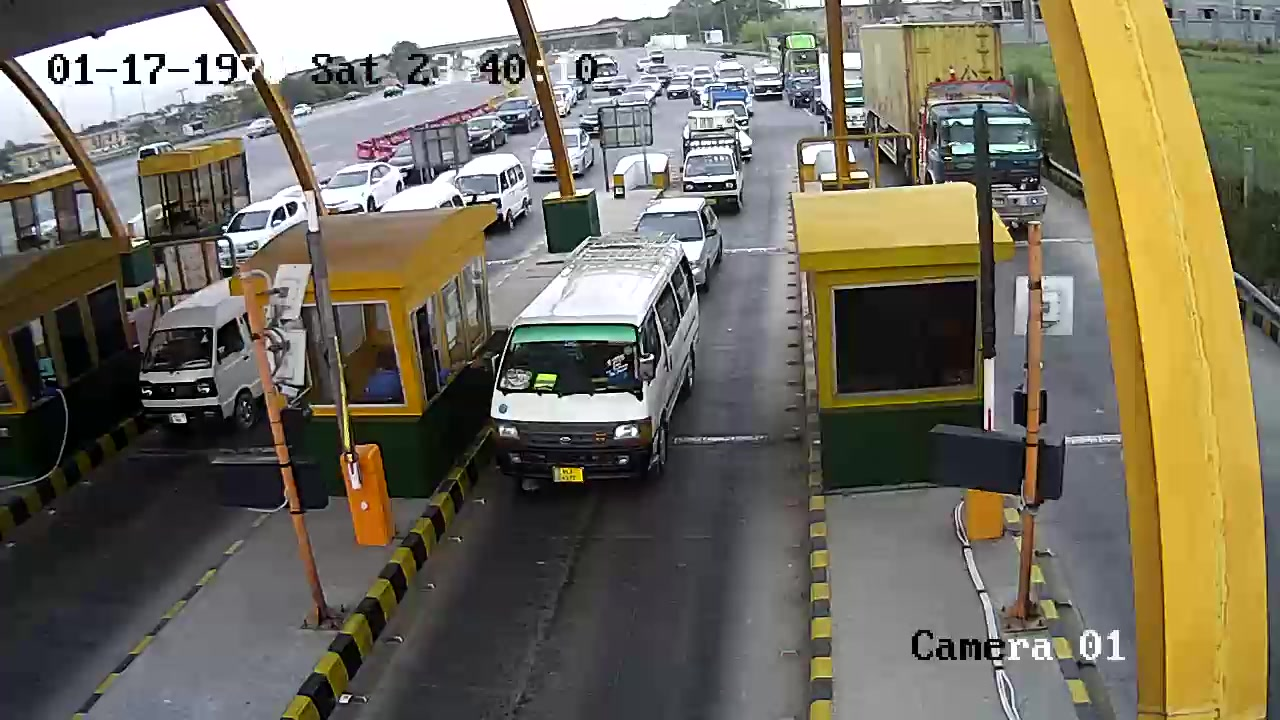F2: (491, 232, 723, 493)
